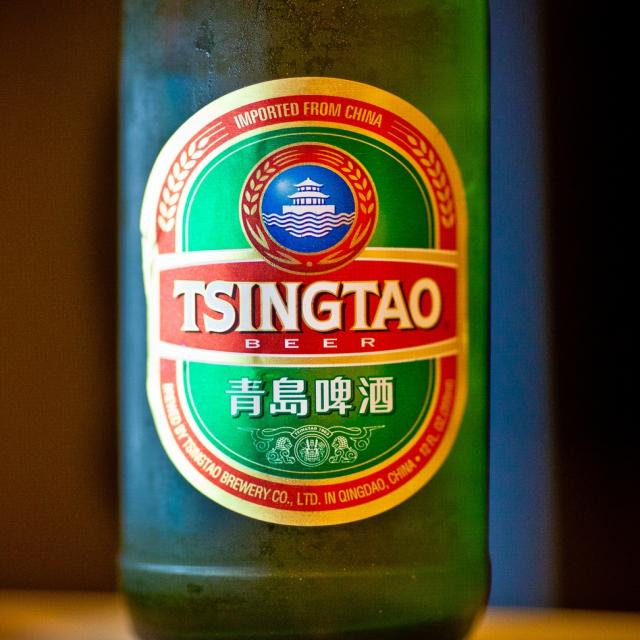tsingtao: (138, 76, 473, 530)
